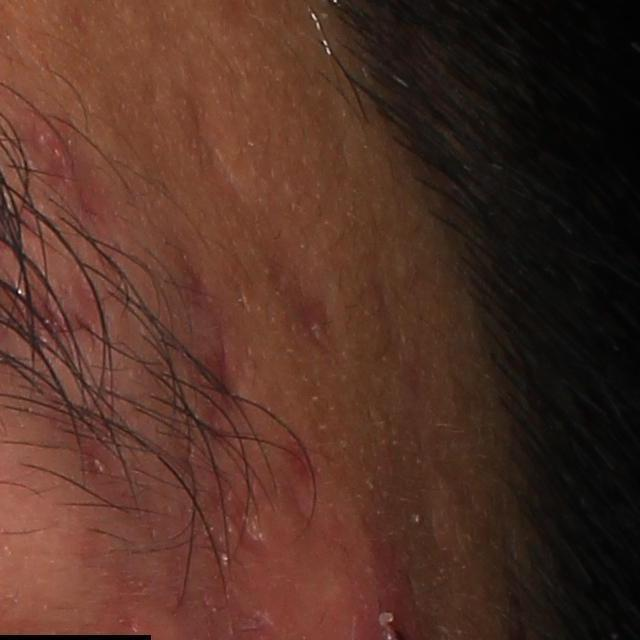atrophic_scar: (176, 61, 340, 358), (34, 114, 119, 245), (263, 251, 335, 352), (188, 336, 244, 421)
